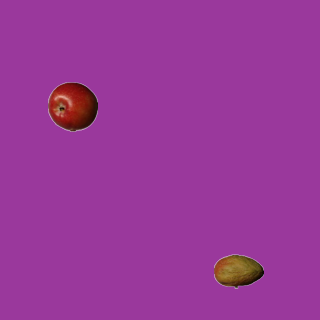Apple Braeburn: (47, 81, 97, 131)
Papaya: (213, 246, 263, 296)
